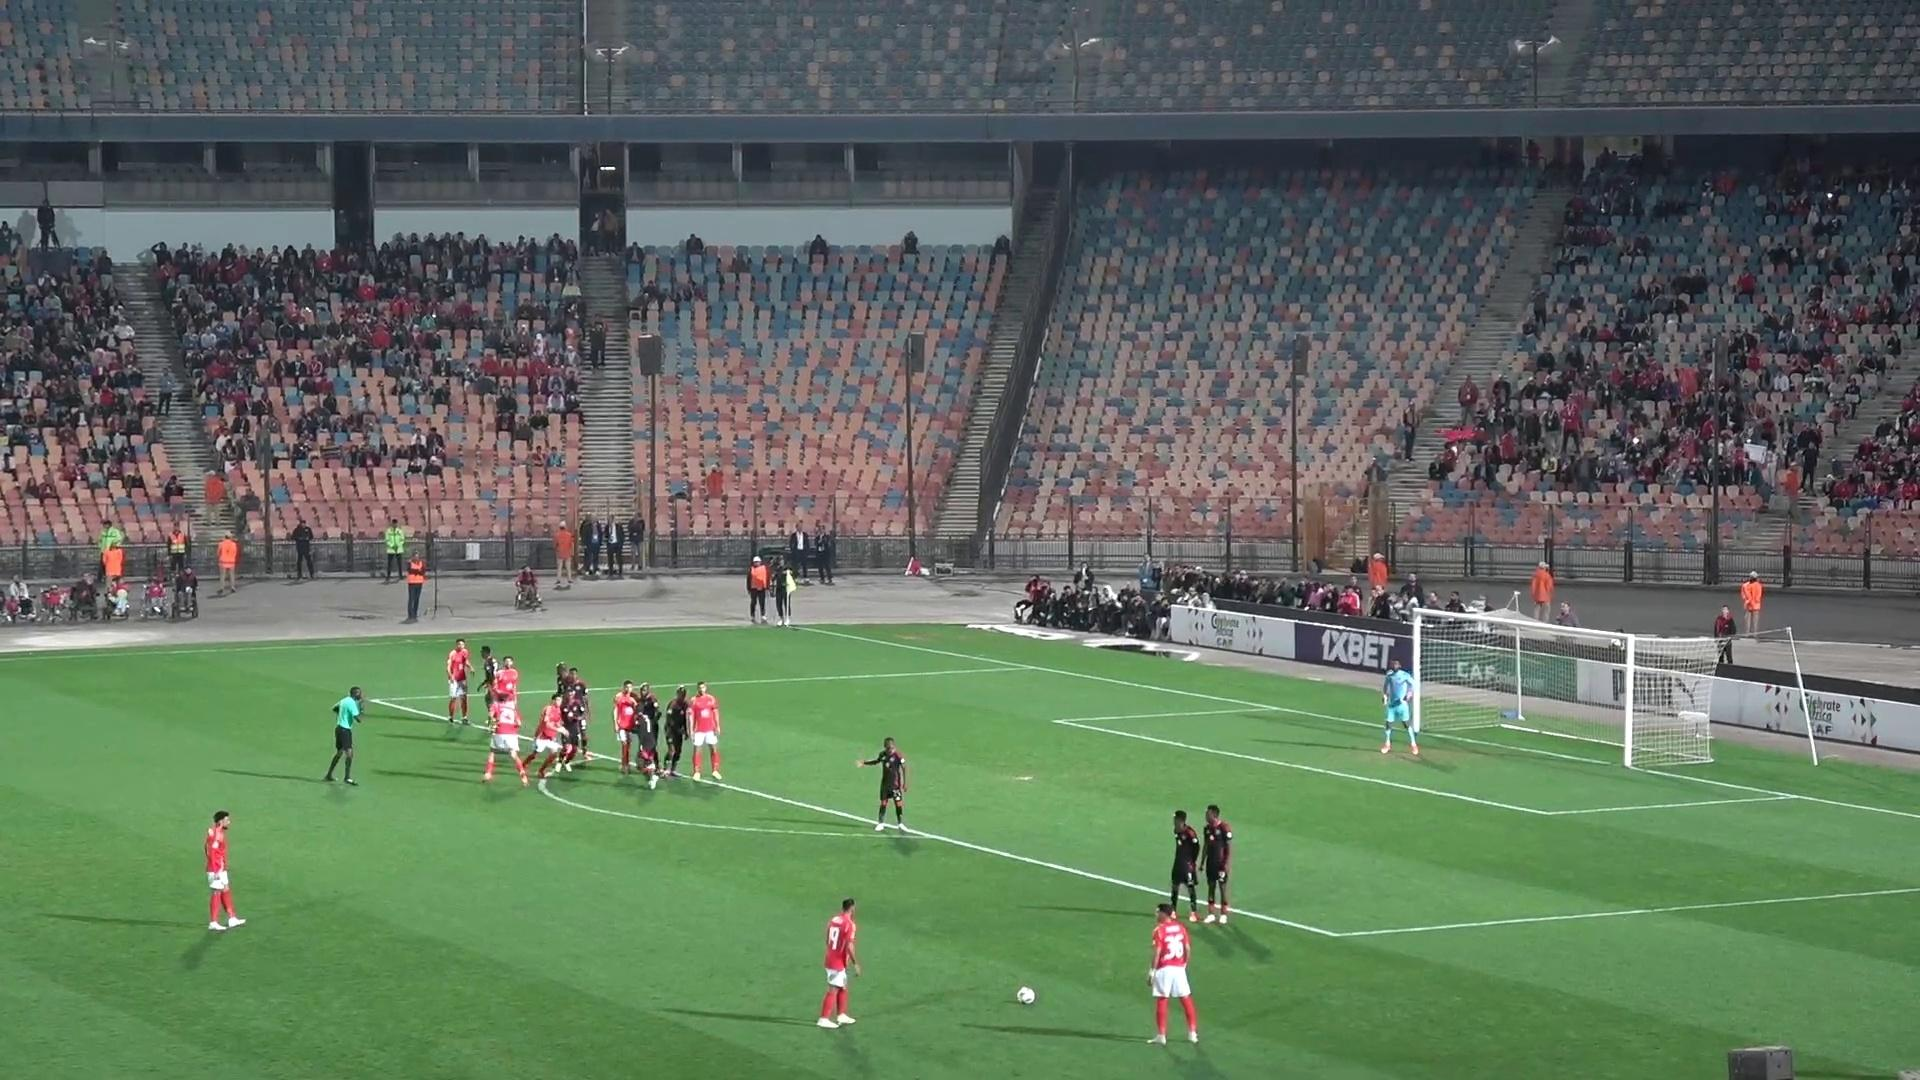Ball: (1015, 985, 1039, 1006)
GK2: (1379, 659, 1419, 756)
Refree: (322, 684, 368, 785)
Team1: (1149, 903, 1199, 1043), (816, 899, 860, 1029), (483, 667, 527, 781), (204, 812, 245, 931), (526, 690, 580, 779), (684, 682, 721, 783), (444, 640, 473, 727), (612, 679, 636, 774), (489, 655, 520, 702)
Team2: (856, 738, 909, 832), (1197, 803, 1233, 924), (1168, 810, 1203, 920), (622, 684, 662, 775), (556, 682, 588, 771), (659, 684, 688, 777), (473, 645, 497, 705), (566, 667, 585, 703), (555, 663, 572, 694)
